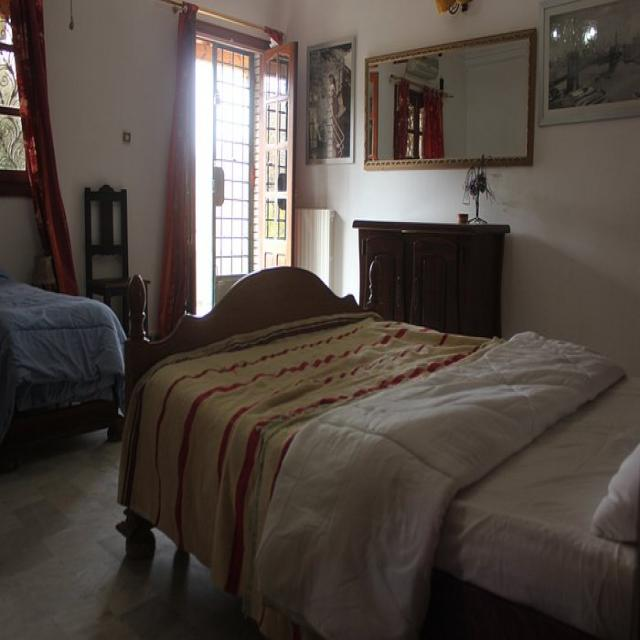bed: (132, 309, 640, 640)
beside table: (353, 212, 510, 353)
chair: (80, 170, 146, 338)
door: (191, 15, 270, 308)
